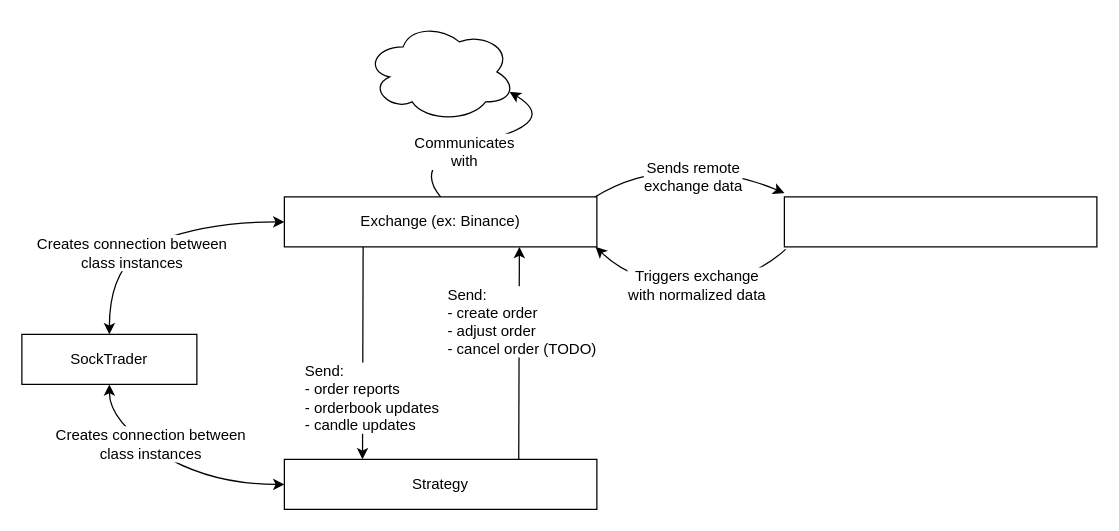
Some shapes in this 1119 by 531 pixel diagram are drawn without their labels. Here are the shapes that lost their labels. From the top down, the box of each, then its label:
(364, 21, 516, 122): Remote Exchange
(783, 196, 1097, 247): ExchangeMapper
